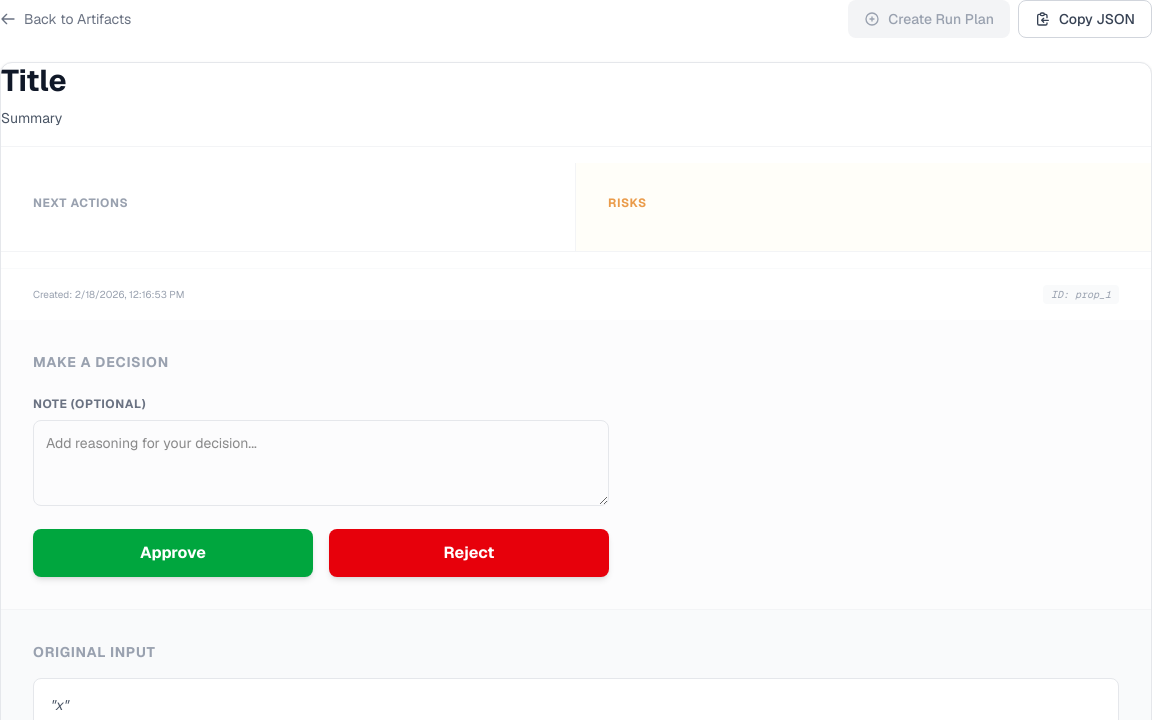
Fail-closed invariant › shows policy violation banner when decision action fails closed
Click the button with test id "approve-button" at (173, 553), box [33, 529, 313, 577]
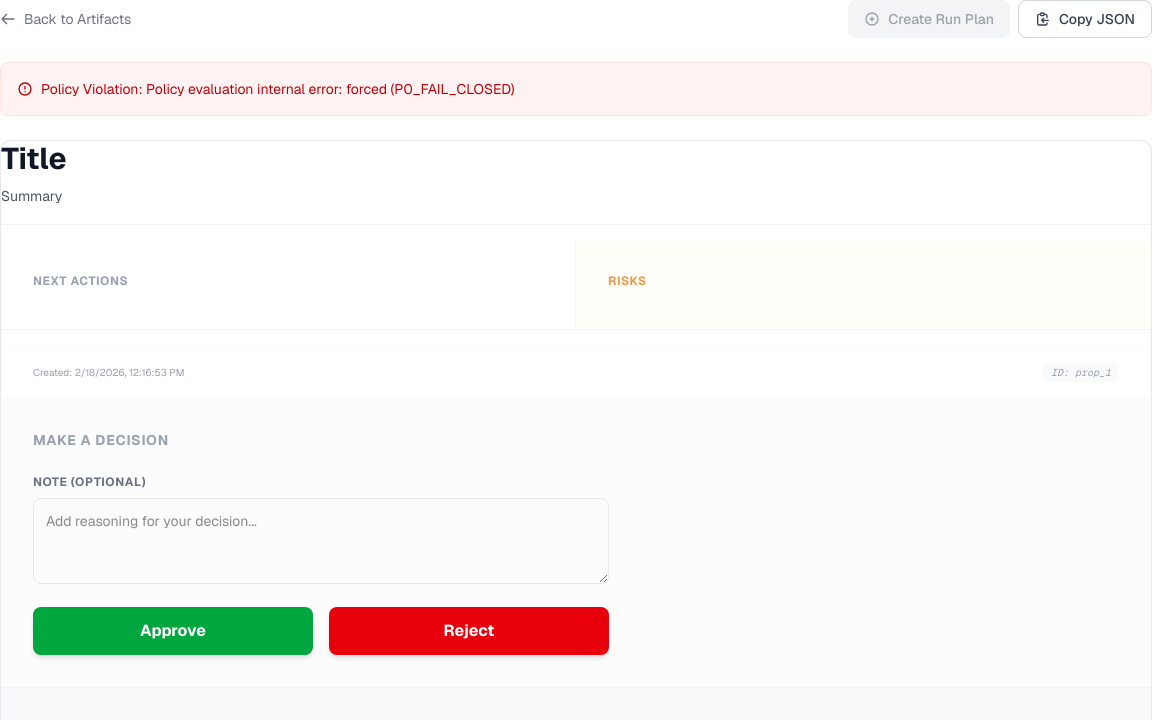
Now the text "P0_FAIL_CLOSED" is shown, box [41, 80, 515, 98]
